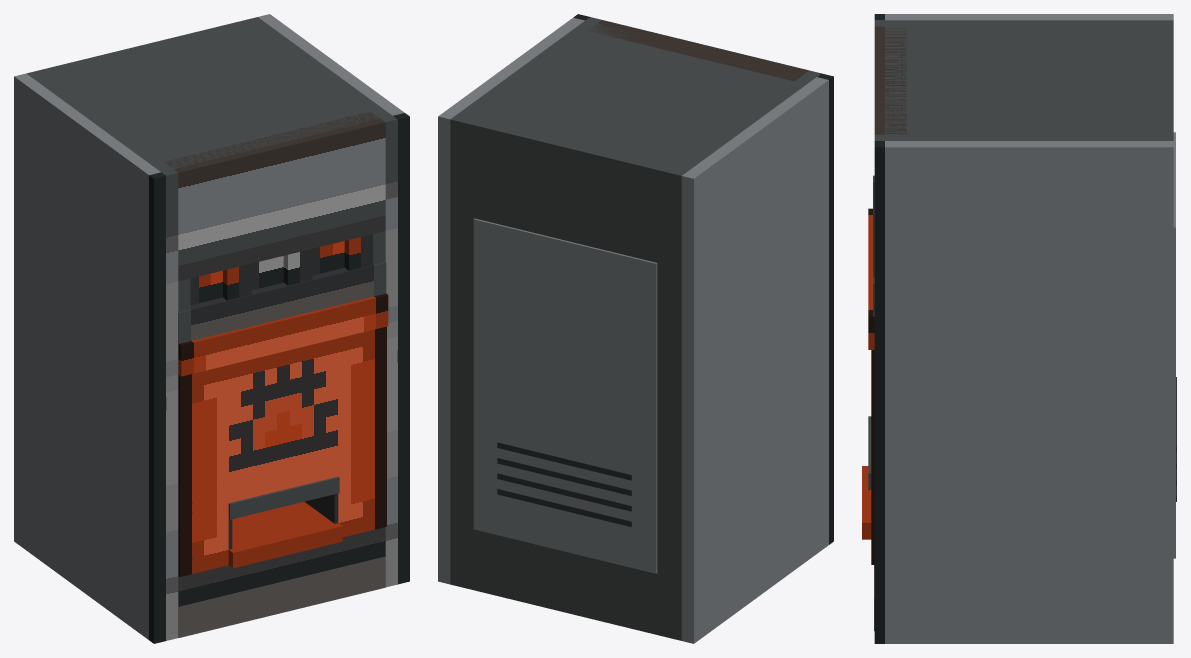
Rendered from CMU3DCashSodaVendor.glb.
3 renders of one model, left to right at view 1: azimuth 30°, elevation 25°; view 2: azimuth 150°, elevation 25°; view 3: azimuth 270°, elevation 25°, orthographic. The views are drawn at different scales.
Visible parts, largest first — view 1: left cabinet side, original orange brand artwork, cabinet roof, header metal sign, left silver face rail, right silver face rail, selection lower lip, upper orange door rail, plinth face, bottom black band, pickup tray lip, pickup left door panel (+11 smaller); view 2: left cabinet side, rear service panel, rear cabinet wall, cabinet roof, right cabinet side, header metal sign, left silver face rail, rear cooling slot 1, rear cooling slot 3, rear cooling slot 2, rear cooling slot 4; view 3: right cabinet side, cabinet roof, right silver face rail, header metal sign, rear cabinet wall, left cabinet side, rear service panel, upper orange door rail, pickup tray lip, original orange brand artwork.
Part boxes in pixels (<box>): left cabinet side: <box>14,73,160,639</box>; original orange brand artwork: <box>178,326,386,514</box>; cabinet roof: <box>34,23,392,172</box>; header metal sign: <box>164,111,385,281</box>; left silver face rail: <box>149,169,178,643</box>; right silver face rail: <box>381,113,409,587</box>; selection lower lip: <box>178,262,386,343</box>; upper orange door rail: <box>178,293,388,376</box>; plinth face: <box>178,556,385,637</box>; bottom black band: <box>178,527,385,606</box>; pickup tray lip: <box>228,501,342,568</box>; pickup left door panel: <box>178,503,228,576</box>; left cabinet side: <box>681,77,828,643</box>; rear service panel: <box>473,218,657,573</box>; rear cabinet wall: <box>450,113,689,640</box>; cabinet roof: <box>458,20,816,169</box>; right cabinet side: <box>438,17,584,584</box>; header metal sign: <box>588,20,809,81</box>; left silver face rail: <box>805,70,833,544</box>; rear cooling slot 1: <box>497,442,631,480</box>; rear cooling slot 3: <box>497,473,631,511</box>; rear cooling slot 2: <box>497,458,631,495</box>; rear cooling slot 4: <box>497,489,631,526</box>; right cabinet side: <box>885,141,1173,643</box>; cabinet roof: <box>885,20,1156,140</box>; right silver face rail: <box>874,134,884,643</box>; header metal sign: <box>874,26,906,134</box>; rear cabinet wall: <box>1156,20,1173,140</box>; left cabinet side: <box>885,14,1173,20</box>; rear service panel: <box>1173,132,1175,558</box>; upper orange door rail: <box>868,208,874,349</box>; pickup tray lip: <box>862,466,871,539</box>; original orange brand artwork: <box>871,350,874,498</box>.
Bounding box in the file's own units: 0.6562 × 1.14 × 0.655.
21 materials, 18 textured.
